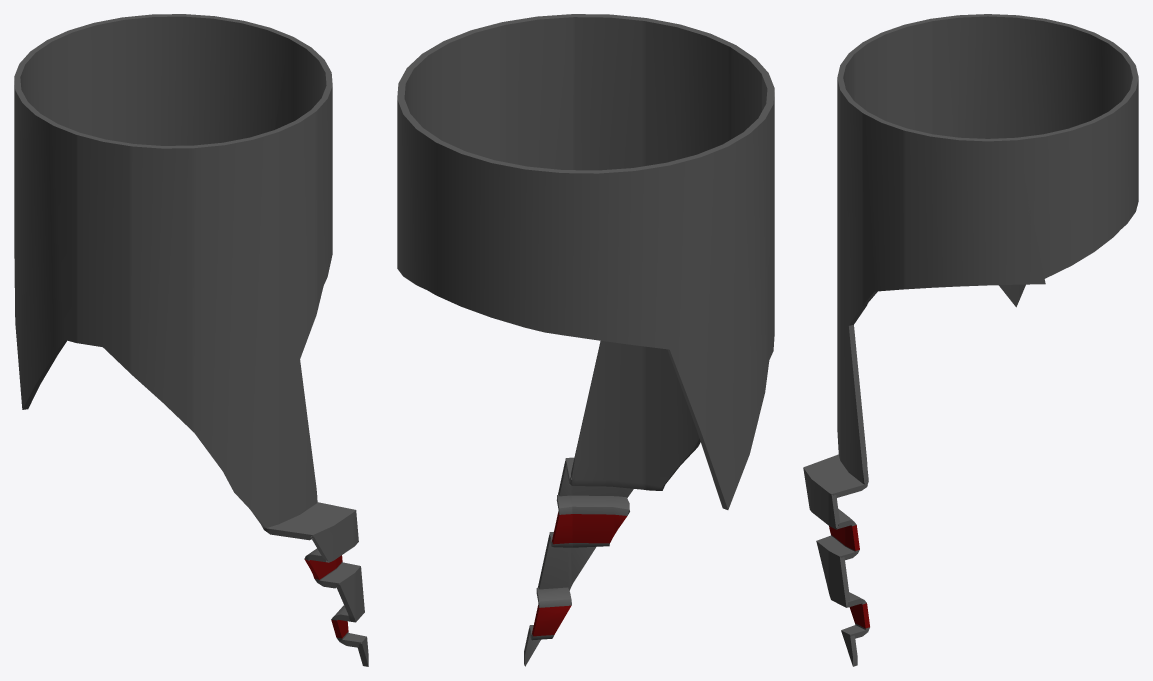
The model's file is mozovos.fbx.
The picture shows the model from 3 angles, left to right: view 1: azimuth 30°, elevation 25°; view 2: azimuth 150°, elevation 25°; view 3: azimuth 270°, elevation 25°; orthographic projection. The views are drawn at different scales.
Parts seen in each view (by area): view 1: polySurface47; view 2: polySurface47; view 3: polySurface47.
Part boxes in pixels (x1=…): polySurface47: x1=14, y1=14, x2=368, y2=666; polySurface47: x1=397, y1=14, x2=774, y2=666; polySurface47: x1=803, y1=14, x2=1138, y2=666.
Bounding box in the file's own units: 20.55 × 40.03 × 22.88.
